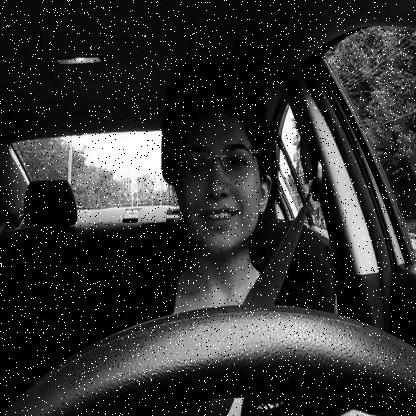seatbelt: (161, 55, 325, 416)
